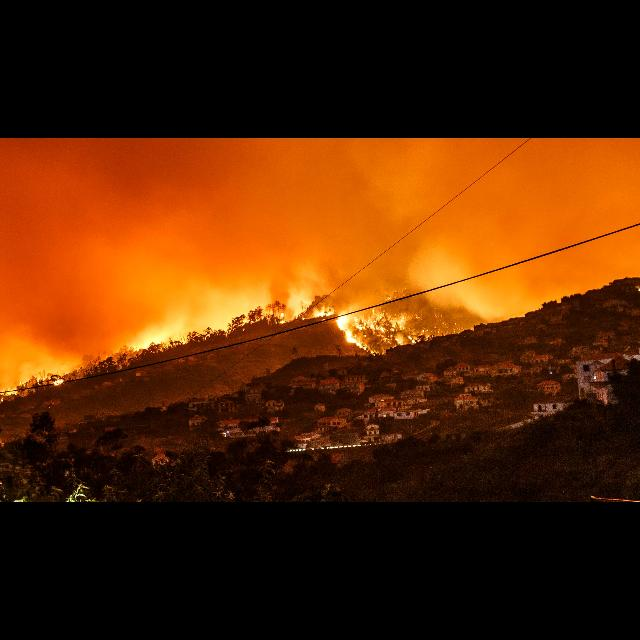fire: (65, 301, 333, 379), (345, 296, 475, 354)
